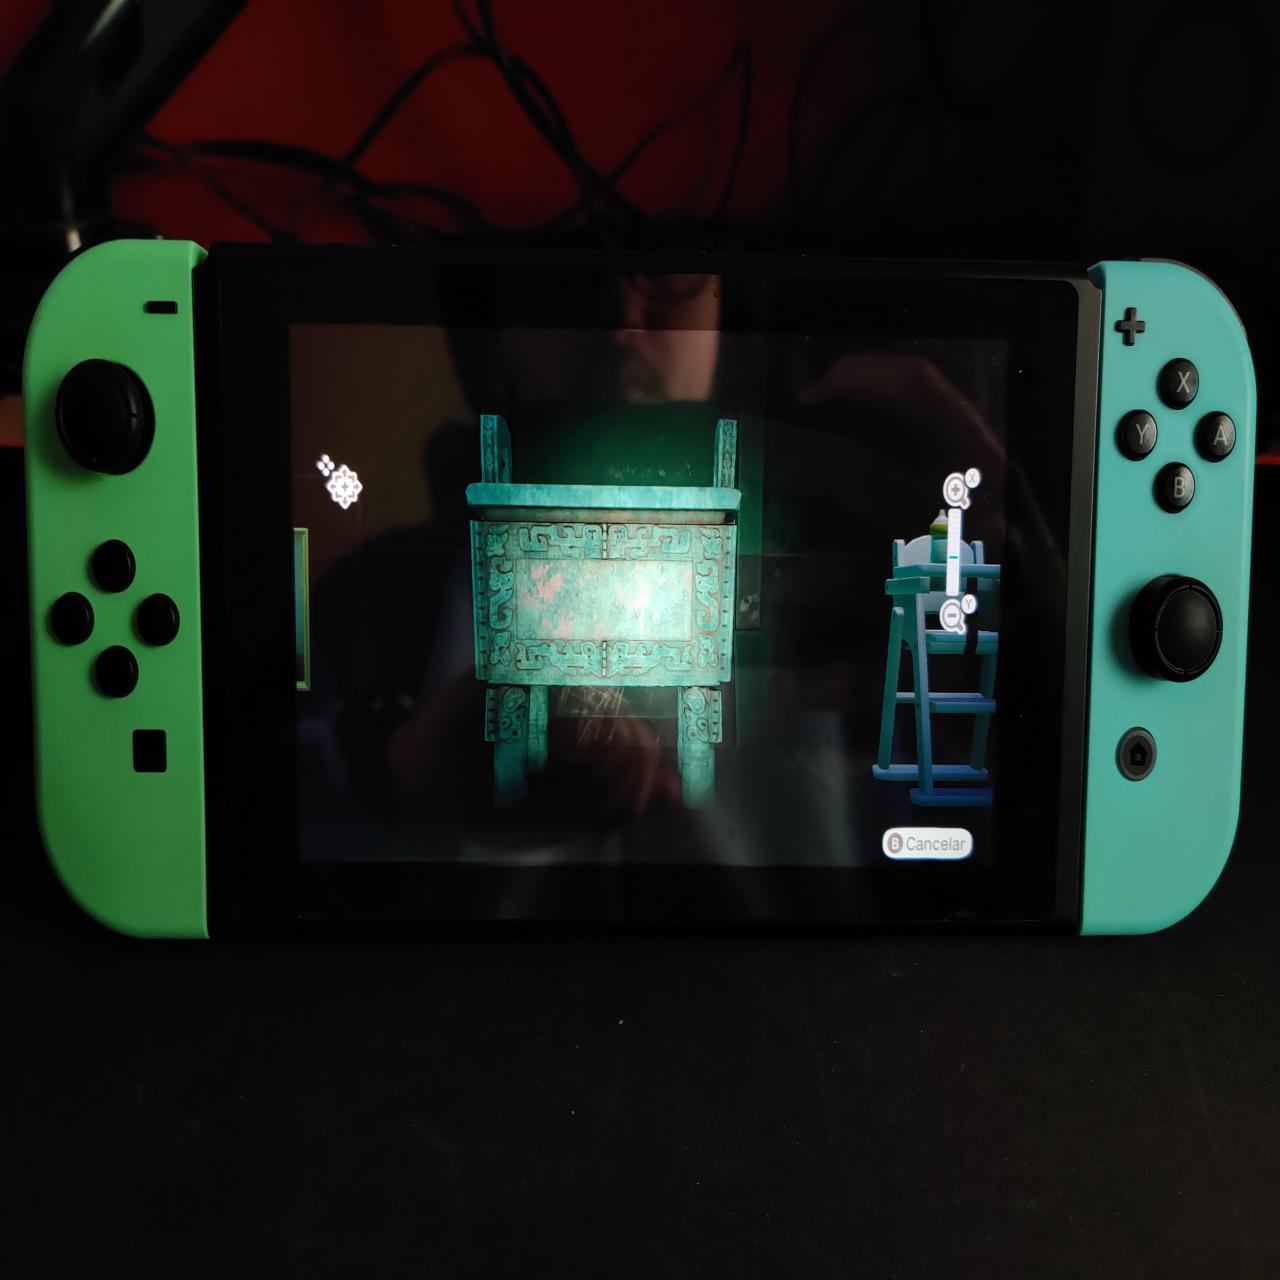HoumuwuDing: (462, 402, 749, 815)
